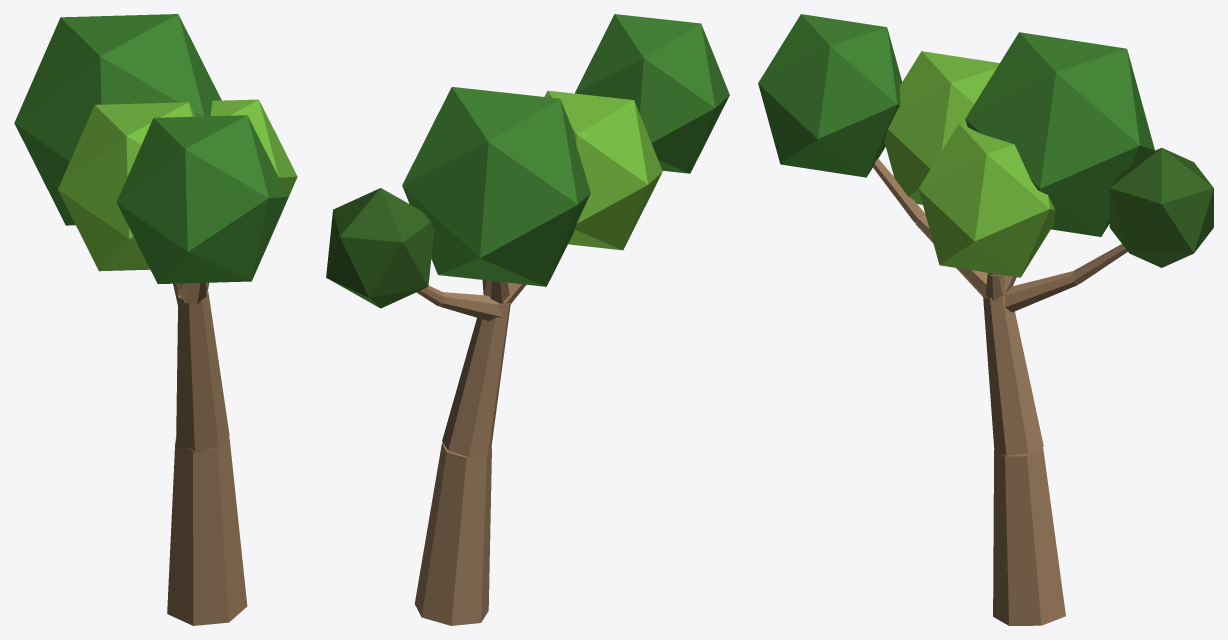
File: forest-deciduous-young.glb
3 views of the same model, side by side, from view 1: azimuth 30°, elevation 25°; view 2: azimuth 150°, elevation 25°; view 3: azimuth 270°, elevation 25° (orthographic). The views are drawn at different scales.
Parts seen in each view (by area): view 1: Icosphere.004, Icosphere.006, Trunk0, Icosphere.003, Trunk1, Icosphere.002, Branch2a; view 2: Icosphere.006, Icosphere.004, Trunk0, Icosphere.003, Icosphere, Trunk1, Branch0a; view 3: Icosphere.006, Icosphere.004, Icosphere.002, Trunk0, Icosphere, Icosphere.003, Trunk1, Branch0a, Branch2b, Branch0b, Branch2a.
Part boxes in pixels (<box>): Icosphere.004: <box>116,115,288,283</box>; Icosphere.006: <box>14,14,221,225</box>; Trunk0: <box>167,436,247,625</box>; Icosphere.003: <box>58,102,195,271</box>; Trunk1: <box>176,289,229,453</box>; Icosphere.002: <box>210,99,297,254</box>; Branch2a: <box>178,282,206,304</box>; Icosphere.006: <box>402,87,590,286</box>; Icosphere.004: <box>575,14,729,173</box>; Trunk0: <box>414,443,491,625</box>; Icosphere.003: <box>544,90,662,250</box>; Icosphere: <box>326,188,434,308</box>; Trunk1: <box>442,303,510,457</box>; Branch0a: <box>439,292,502,321</box>; Icosphere.006: <box>965,32,1154,236</box>; Icosphere.004: <box>758,14,901,177</box>; Icosphere.002: <box>918,123,1055,277</box>; Trunk0: <box>993,447,1065,625</box>; Icosphere: <box>1109,147,1213,267</box>; Icosphere.003: <box>884,51,999,204</box>; Trunk1: <box>983,295,1043,455</box>; Branch0a: <box>1004,271,1078,312</box>; Branch2b: <box>873,158,925,222</box>; Branch0b: <box>1072,244,1127,284</box>; Branch2a: <box>915,214,987,299</box>.
Size of the model in its own units: 1.02 by 2.31 by 1.77.
